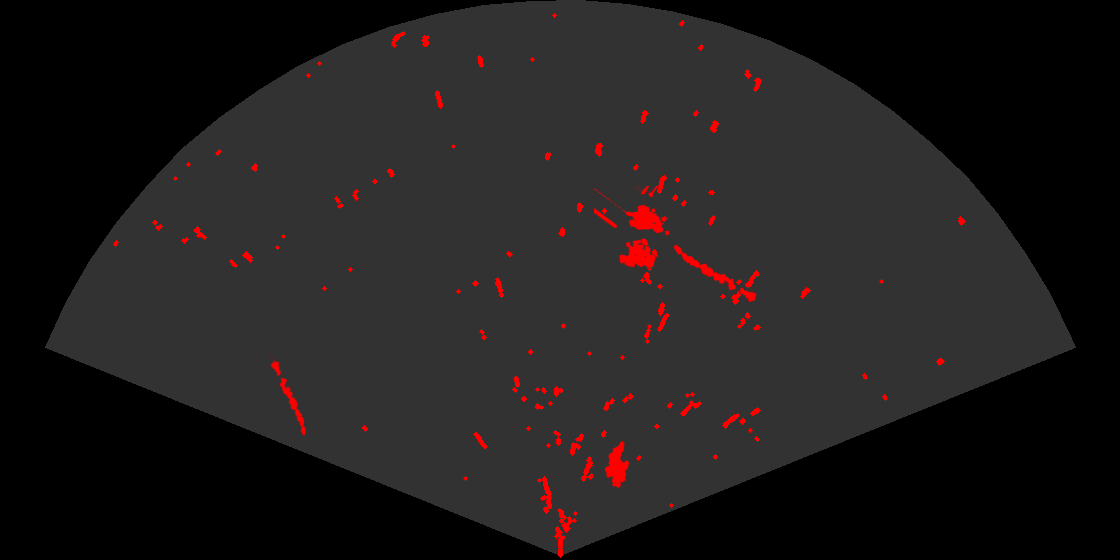AUV: (603, 439, 631, 490)
cage: (594, 186, 671, 270)
chain: (672, 243, 758, 304), (268, 353, 308, 437)
